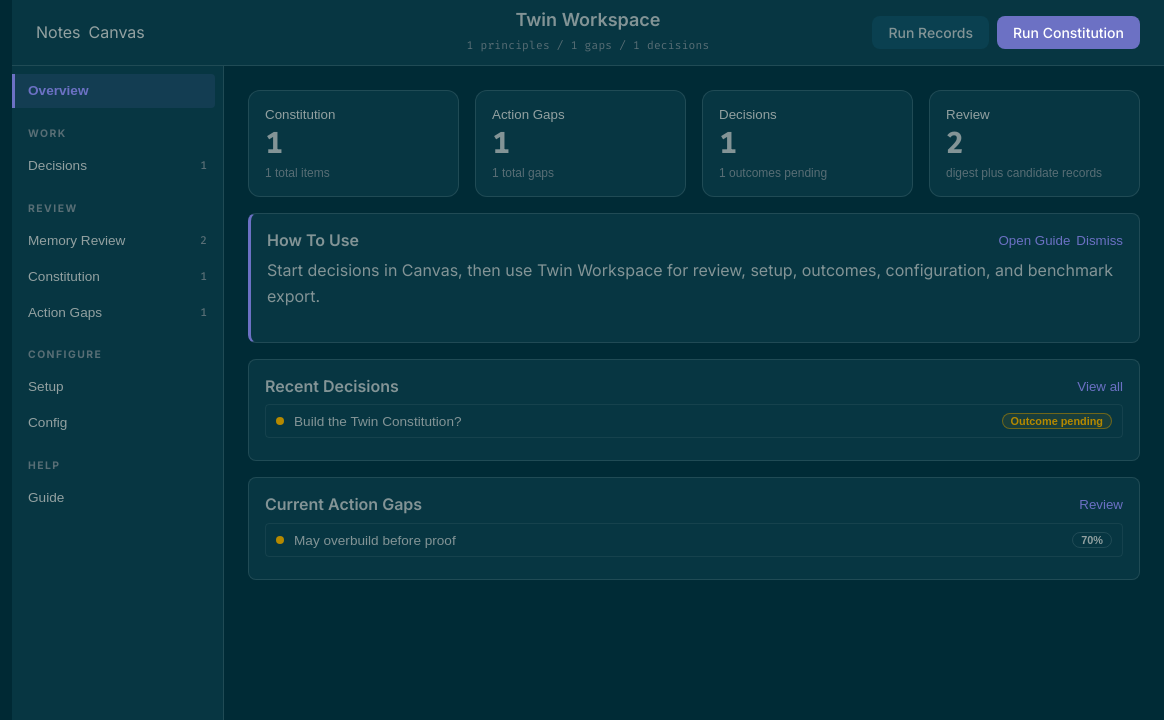
Test case: TwinReviewView › shows constitution source labels and expanded inference summary
This screenshot has width=1164, height=720.
Click the button with class "tab-button" showing "Constitution 1" at (114,276), box [12,259,215,293]
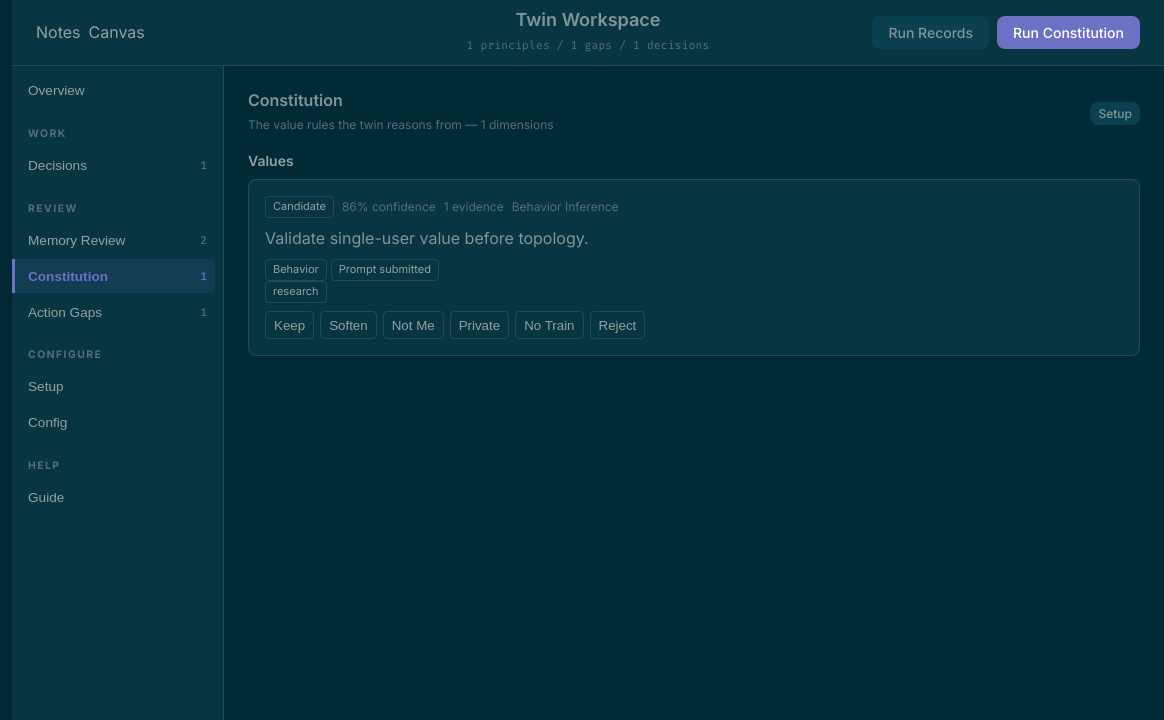
Expected: the text "Behavior Inference" is shown, [512,197,619,216]
Expected: the text "Prompt submitted" is shown, [331,259,439,281]
Click the button "Run Constitution" at (1068,32), box [997,16,1140,49]
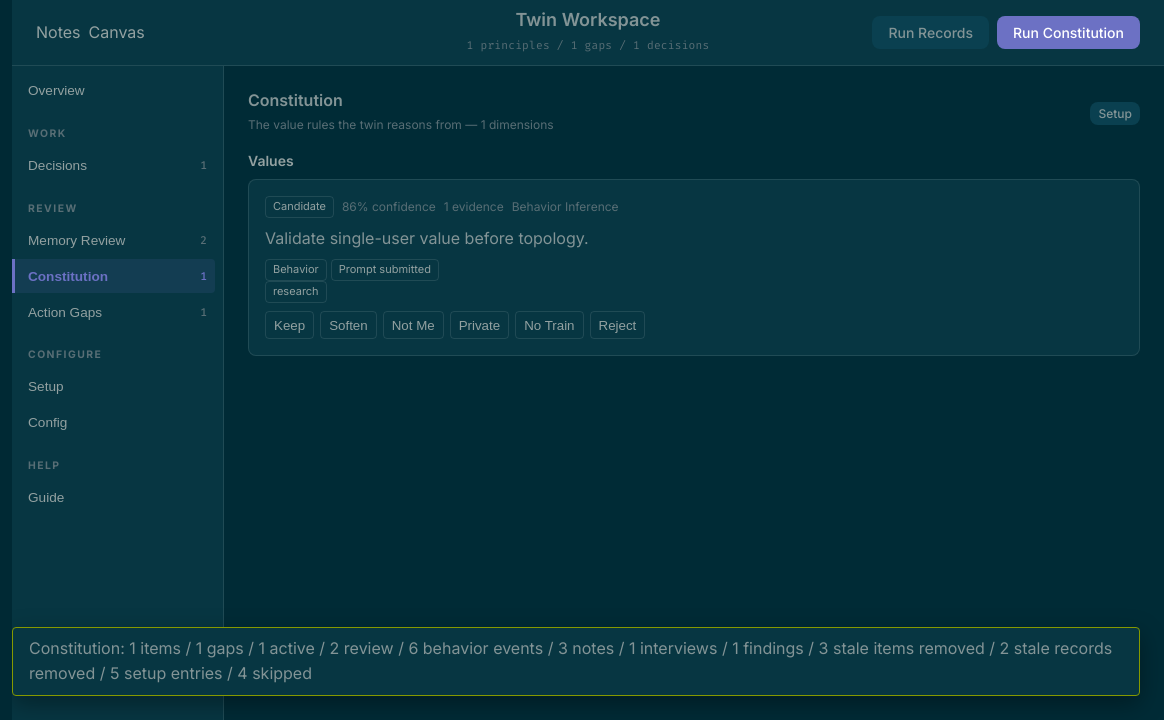
Expected: the text "1 active" is shown, [29,638,1112,683]
Expected: the text "6 behavior events" is shown, [29,638,1112,683]
Expected: the text "1 interviews" is shown, [29,638,1112,683]
